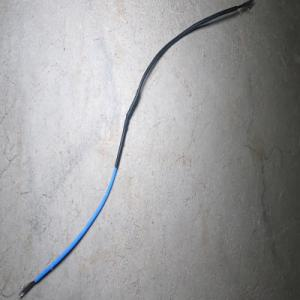Wire: (17, 0, 254, 298)
